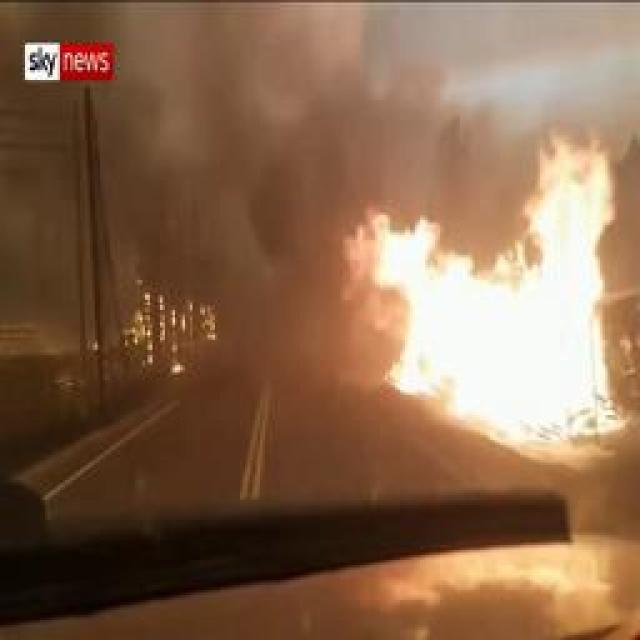Fire: (352, 216, 626, 446), (463, 135, 640, 261), (120, 270, 231, 381)
Smoke: (92, 0, 430, 235)
